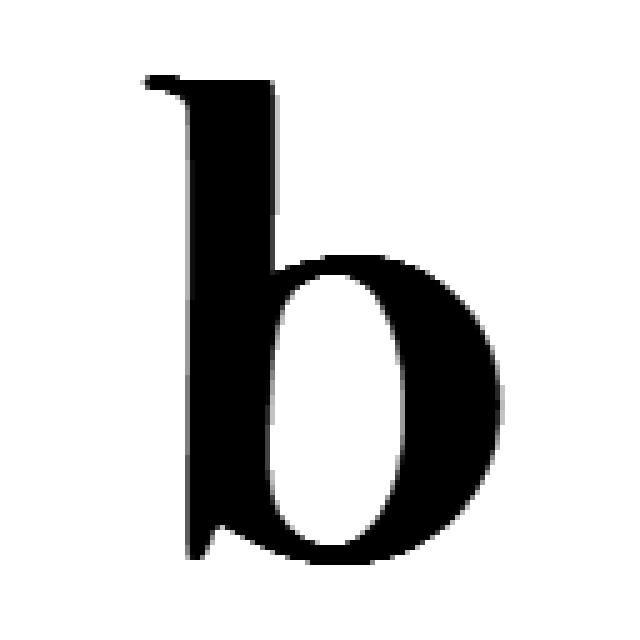B: (145, 75, 505, 570)
